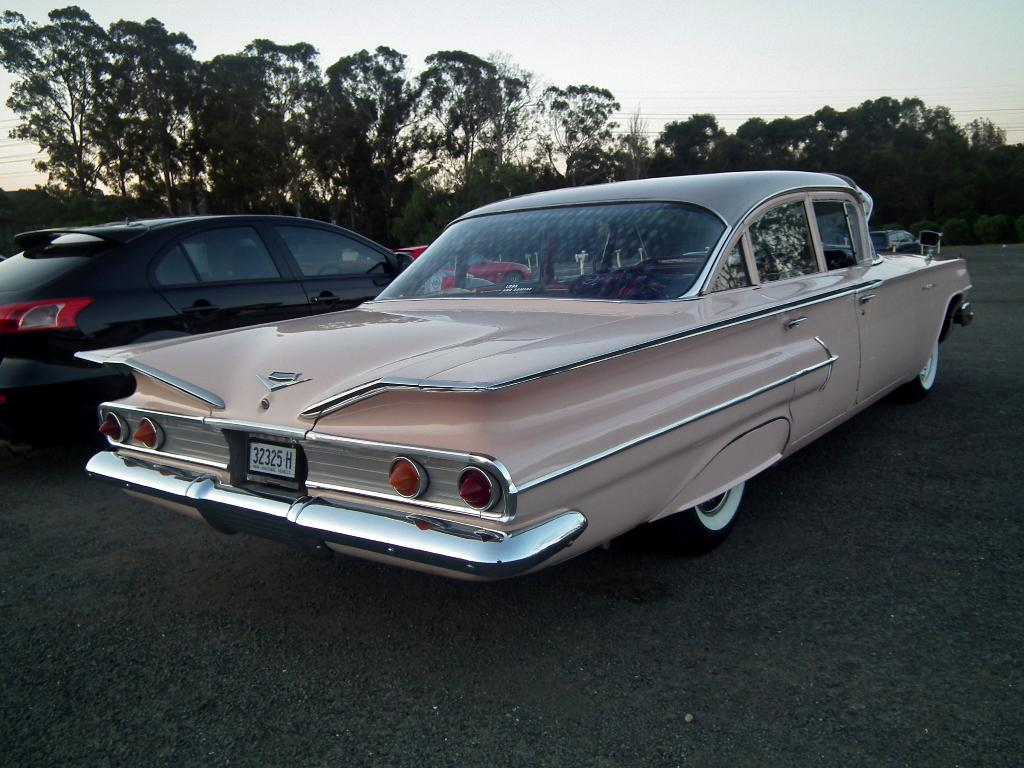Car: (72, 168, 972, 584), (0, 213, 472, 455), (368, 243, 531, 283), (868, 228, 926, 253)
